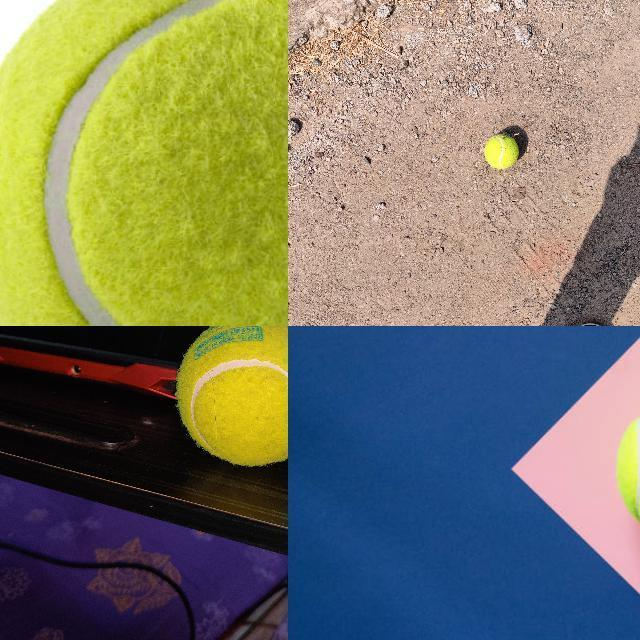tennis-ball: (0, 0, 287, 325), (173, 326, 287, 467), (484, 134, 518, 168)
